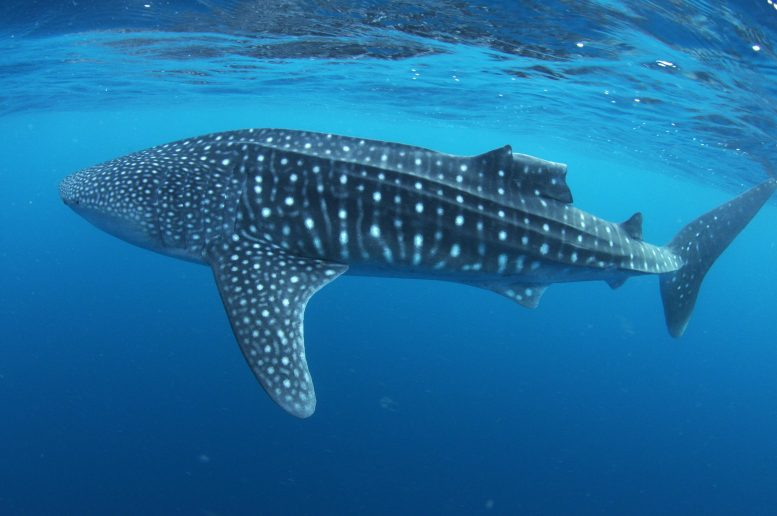shark: (56, 120, 777, 422)
